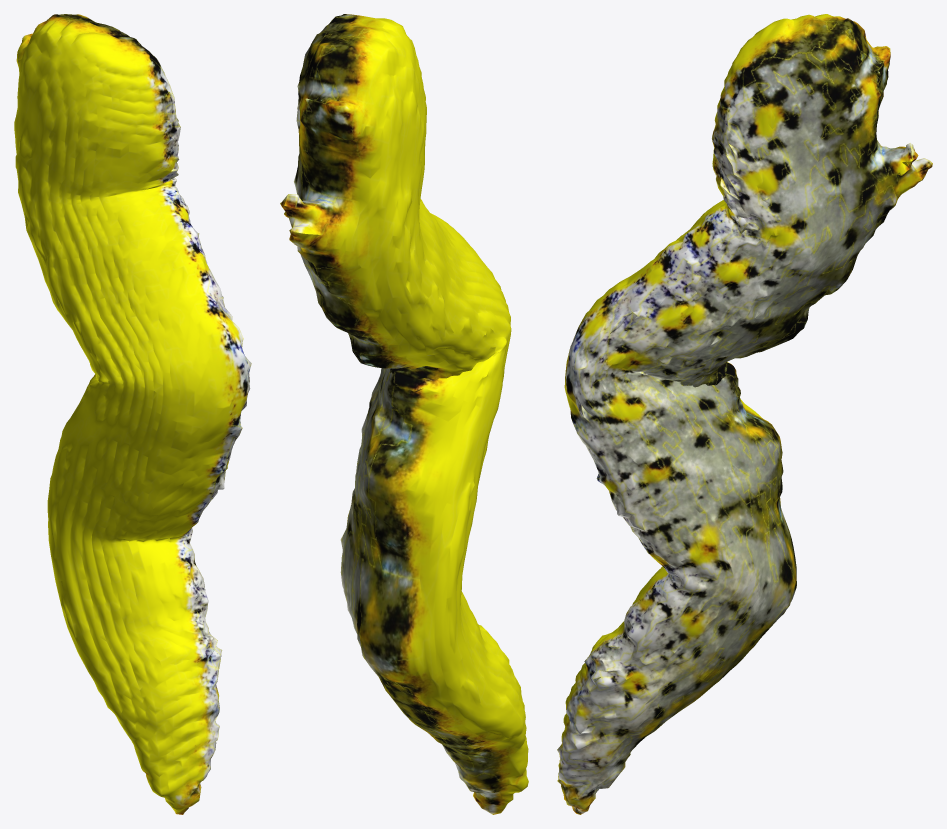
Rendered from worm_after.glb.
3 renders of one model, left to right at view 1: azimuth 30°, elevation 25°; view 2: azimuth 150°, elevation 25°; view 3: azimuth 270°, elevation 25°, orthographic. The views are drawn at different scales.
Visible parts, largest first — view 1: pose0; view 2: pose0; view 3: pose0.
Boxes of the visible parts, x1,y1,x2,y2 form: pose0: [14, 14, 251, 814]; pose0: [280, 14, 528, 814]; pose0: [557, 14, 932, 814].
Size of the model in its own units: 0.2224 by 1.25 by 0.537.
1 material, 1 textured.
